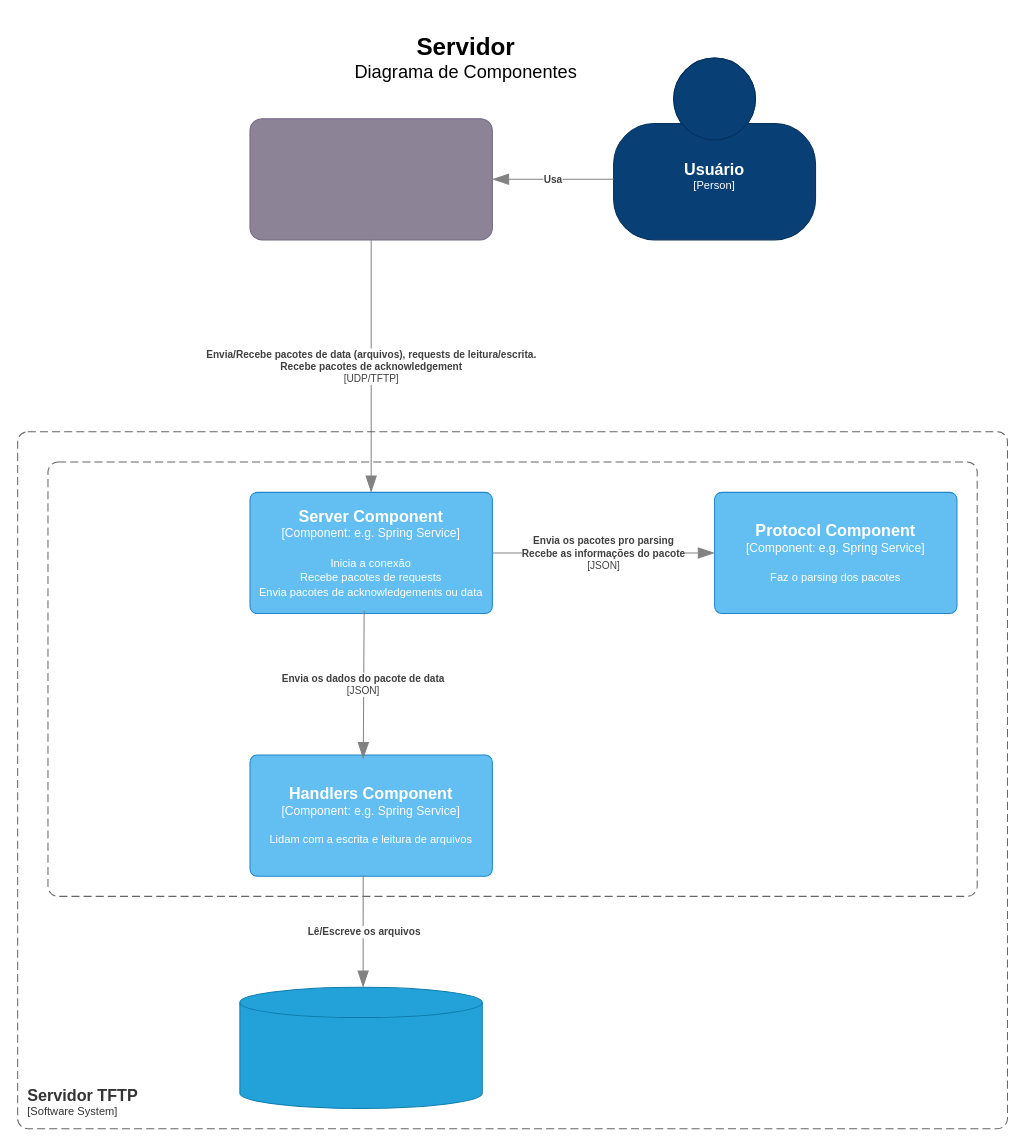
This 1025x1146 diagram has some shape labels left out. Here are the shapes that lost their labels. From the top down, the box of each, then its label:
(249, 118, 492, 240): Cliente TFTP Externo [Software System]
(47, 461, 977, 896): Backend [Container]
(239, 986, 482, 1108): TFTP root [Container: Folder] Armazena os arquivos
